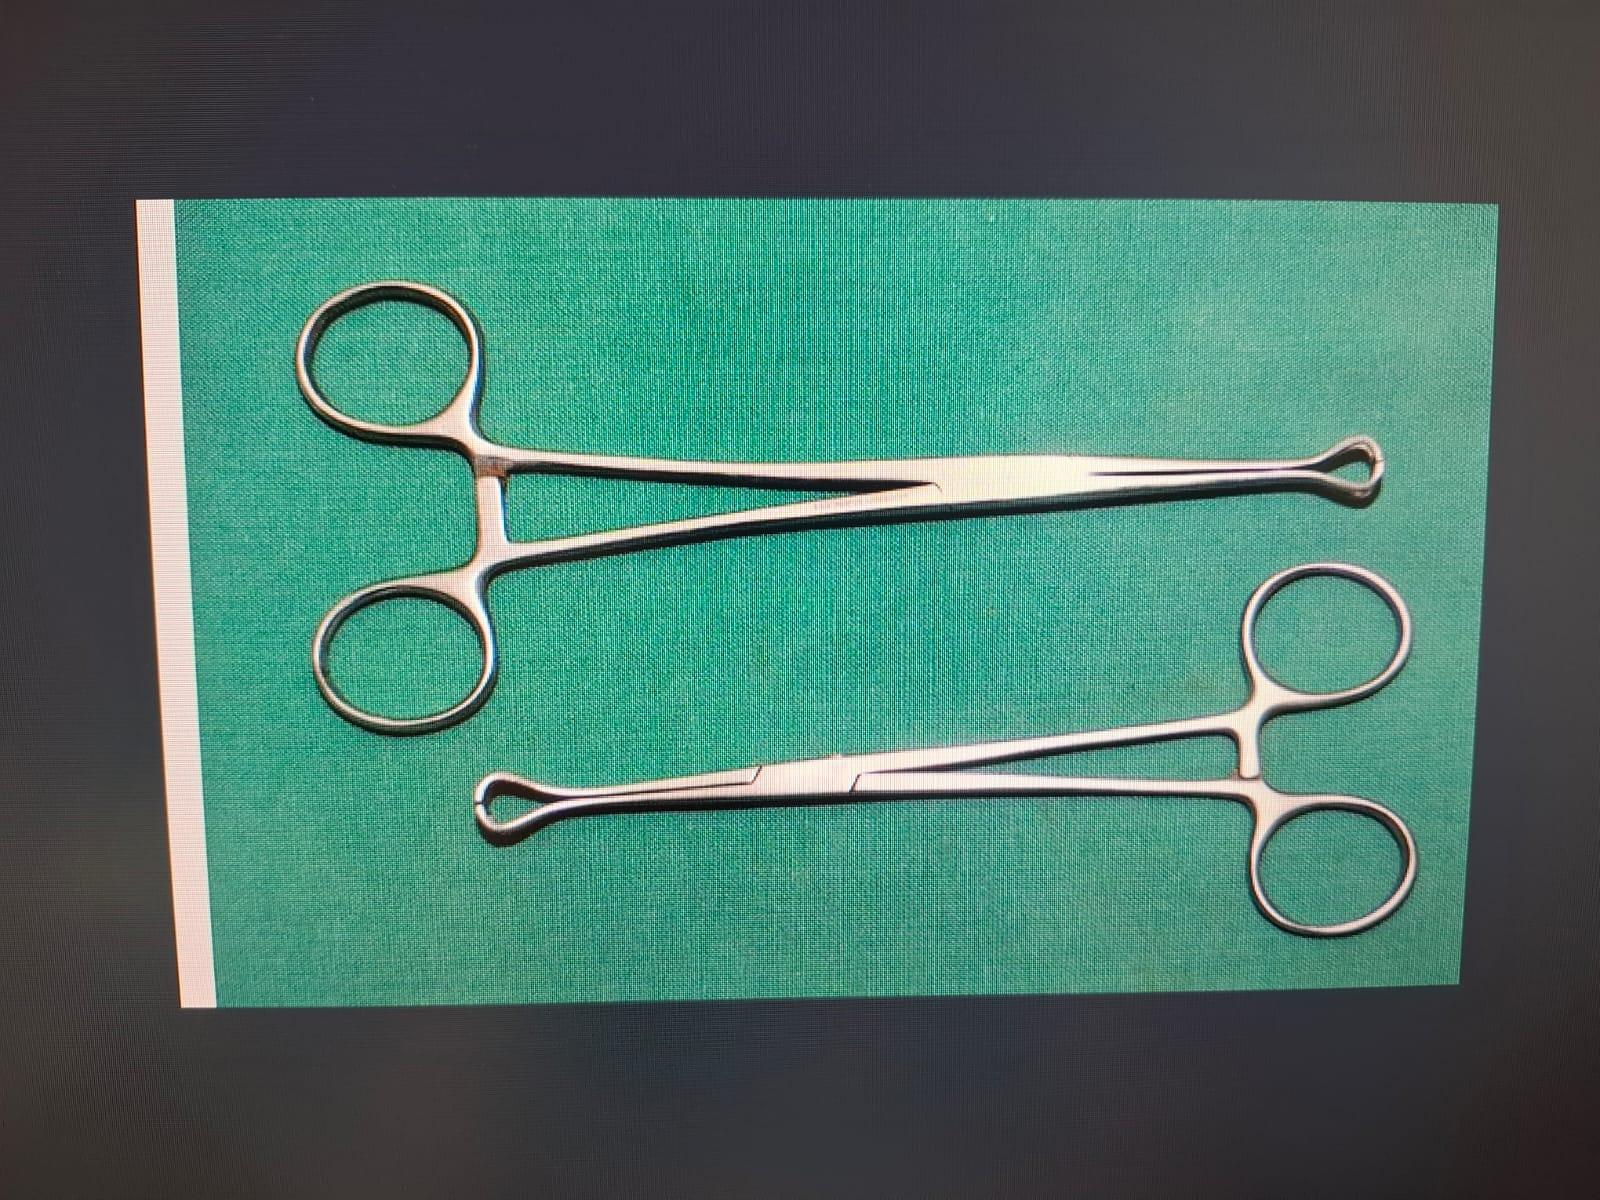Babcock Forceps: (268, 262, 1394, 738), (452, 554, 1426, 952)
